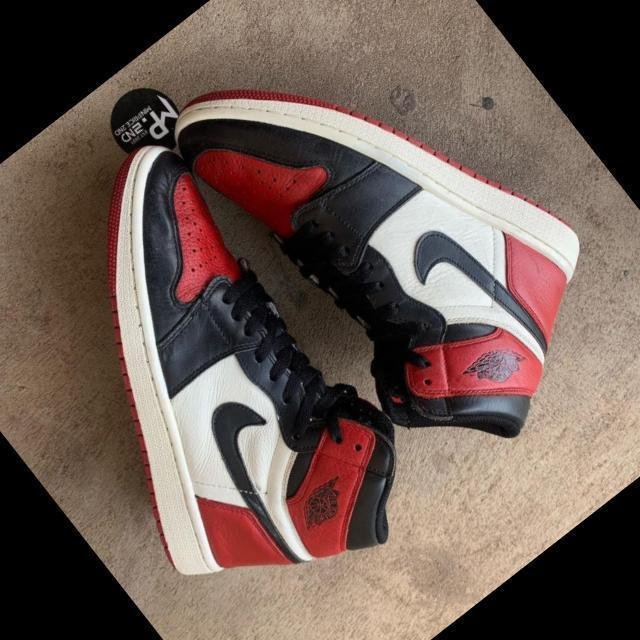nike original jordan 1: (150, 0, 640, 505), (0, 116, 451, 640)
